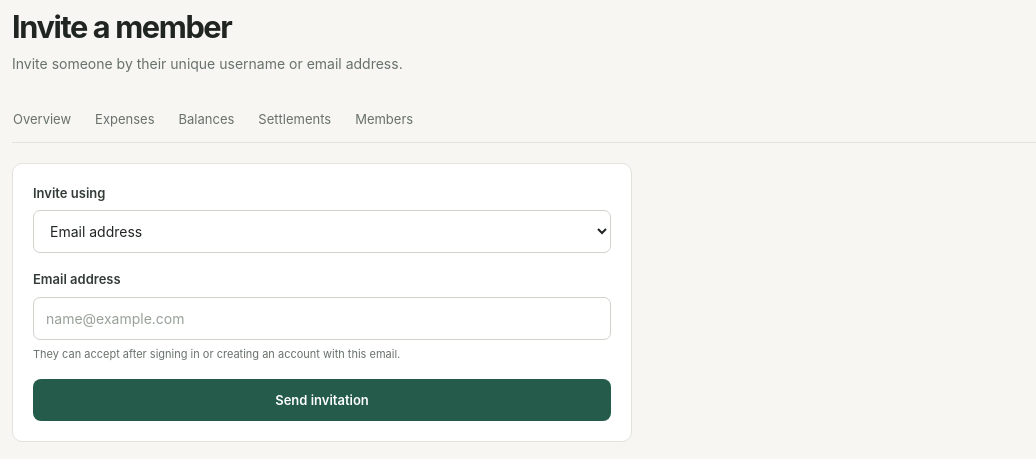
Test case: account settings and expense details › shows invitation API failures as dismissible error toasts
This screenshot has width=1036, height=459.
Select "Username" in the dropdown labelled "Invite using" at (322, 232), box top-left (33, 210), bottom-right (611, 253)
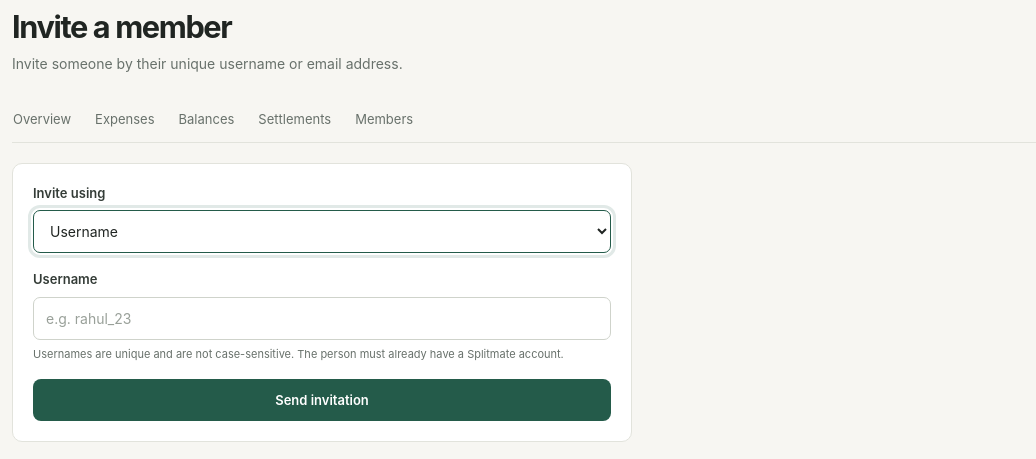
Type "unknowner" into the field labelled "Username" at (322, 318), box top-left (33, 296), bottom-right (611, 340)
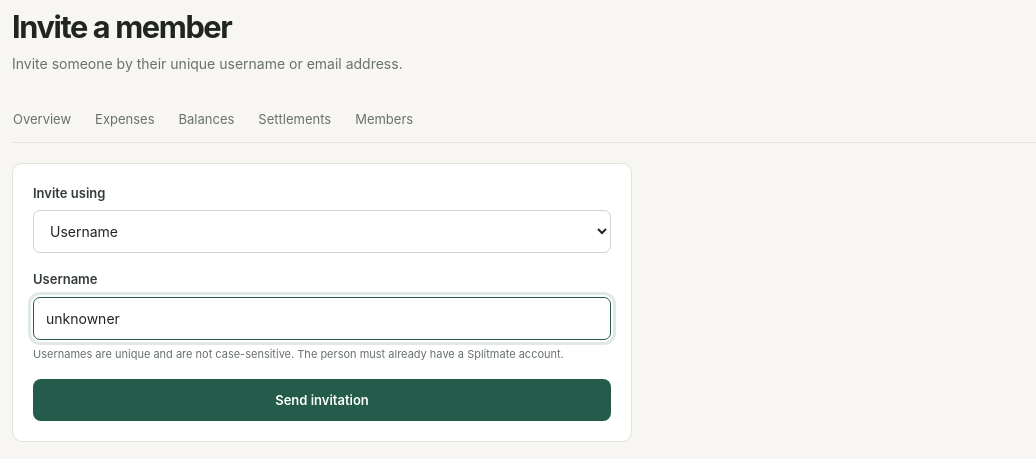
Click the button "Send invitation" at (322, 400), box top-left (33, 379), bottom-right (611, 421)
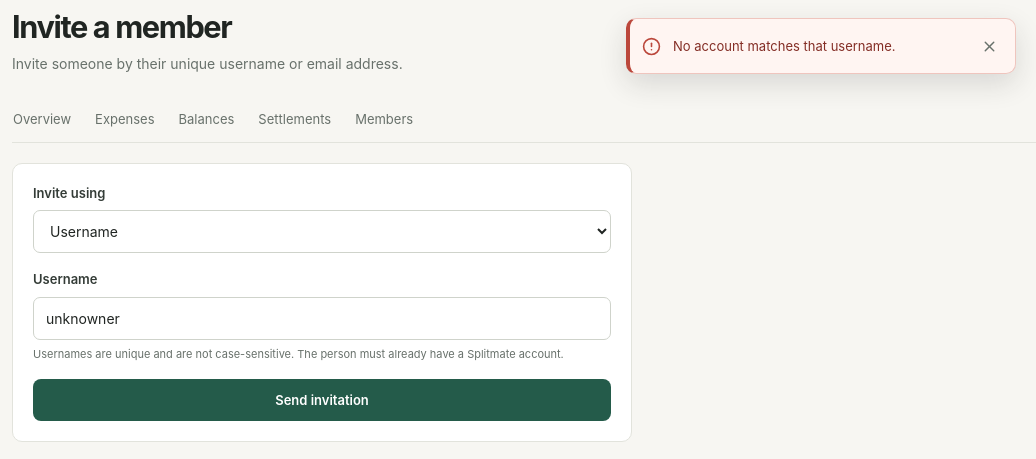
Check: the message reads "No account matches that username.", box top-left (673, 38), bottom-right (896, 54)
Check: the button named "Dismiss notification" is shown, box top-left (975, 32), bottom-right (1003, 60)
